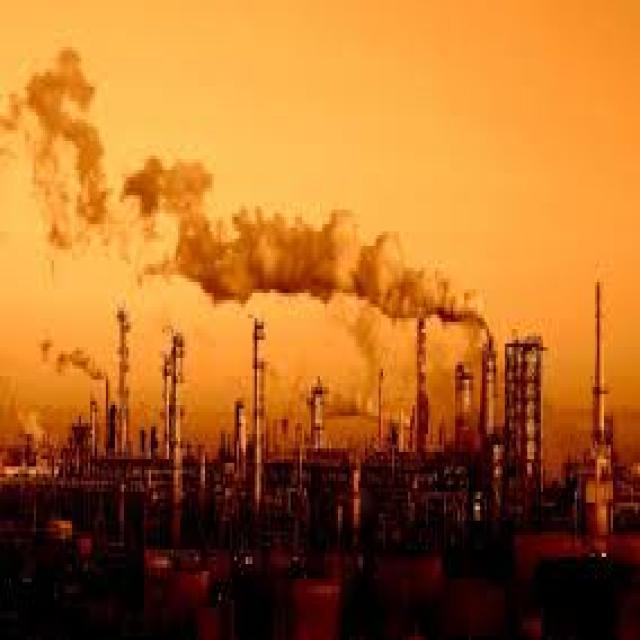Smoke: (0, 46, 497, 347)
